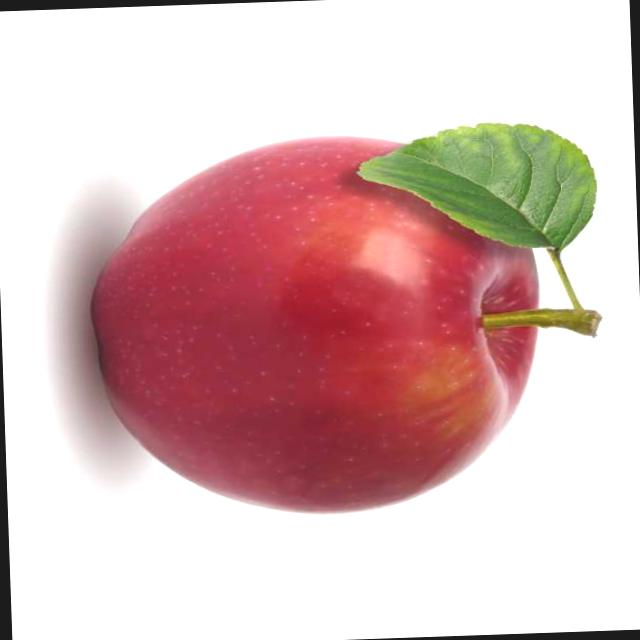apple: (78, 109, 552, 532)
